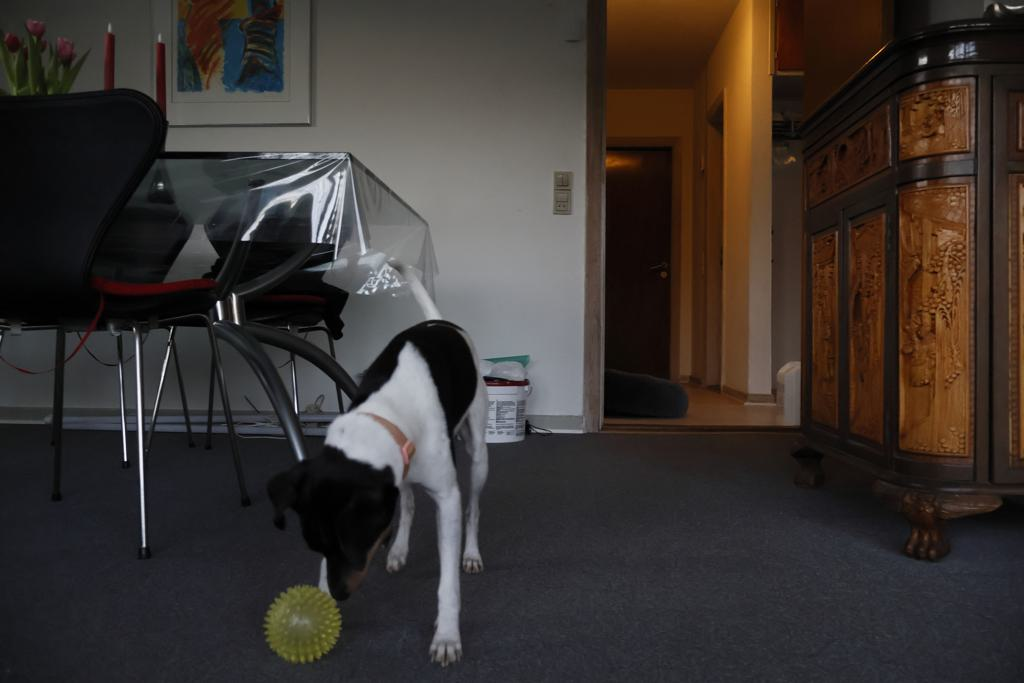Dog: (259, 250, 497, 675)
